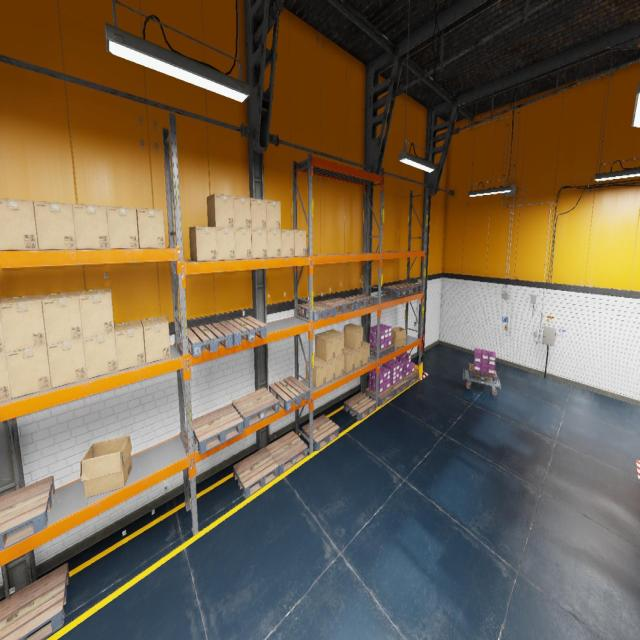box: (80, 435, 132, 498), (0, 294, 48, 352), (5, 344, 52, 398), (42, 291, 83, 344), (34, 201, 76, 249), (47, 338, 87, 388), (0, 199, 39, 250), (83, 326, 118, 378), (79, 288, 114, 338), (72, 203, 110, 249), (114, 320, 146, 370), (106, 206, 139, 248), (141, 316, 170, 363), (136, 208, 166, 248), (189, 226, 217, 261), (207, 193, 234, 228), (306, 356, 326, 388), (216, 228, 235, 260), (316, 332, 336, 361), (233, 196, 251, 228), (234, 228, 252, 259), (0, 298, 10, 353), (0, 352, 11, 401), (325, 330, 344, 358), (250, 198, 266, 229), (344, 324, 363, 349), (251, 229, 267, 258), (266, 200, 281, 228), (267, 229, 281, 258), (345, 345, 362, 368), (281, 229, 294, 257), (294, 230, 306, 256), (344, 345, 355, 373), (391, 327, 406, 347), (326, 358, 336, 383), (336, 354, 344, 379), (362, 341, 370, 365)
pallets: (0, 562, 69, 639), (0, 475, 55, 551), (192, 404, 244, 454), (233, 448, 279, 498), (232, 388, 279, 428), (266, 431, 307, 474), (187, 322, 233, 357), (269, 376, 310, 411), (302, 414, 339, 451), (220, 316, 266, 345), (344, 392, 376, 421), (298, 301, 335, 321), (318, 298, 355, 314), (469, 363, 497, 384), (365, 387, 395, 406), (344, 294, 374, 309), (382, 285, 411, 297), (370, 344, 394, 358), (390, 378, 408, 395), (395, 283, 422, 293), (402, 371, 419, 386)
